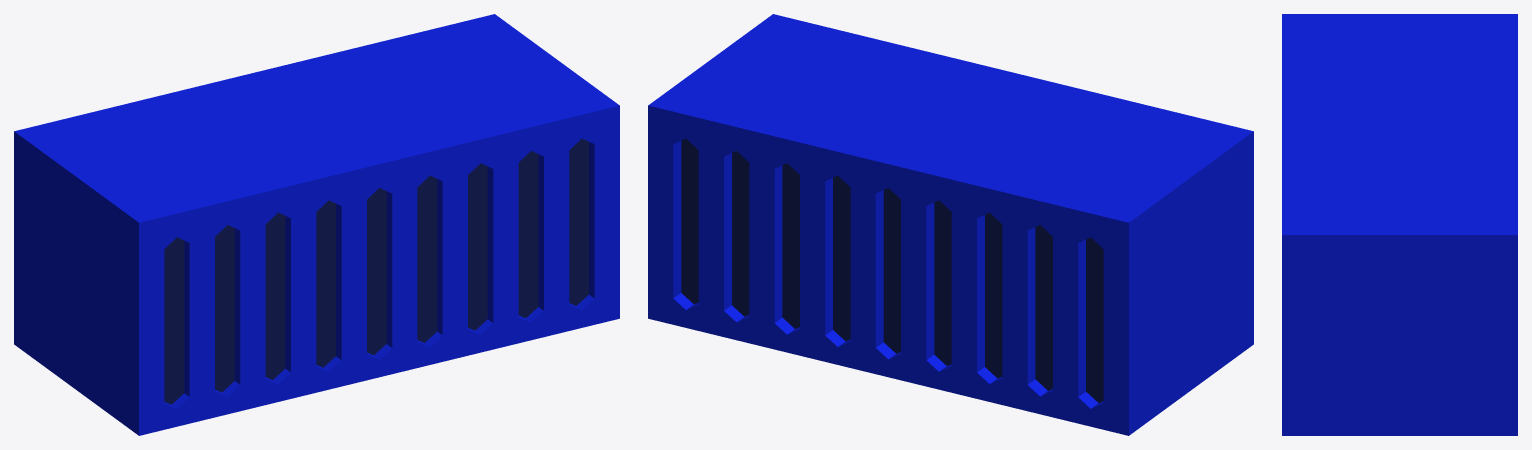
The model's file is container3.FBX.
3 renders of one model, left to right at view 1: azimuth 30°, elevation 25°; view 2: azimuth 150°, elevation 25°; view 3: azimuth 270°, elevation 25°, orthographic. The views are drawn at different scales.
Parts seen in each view (by area): view 1: Box001; view 2: Box001; view 3: Box001.
Boxes of the visible parts, x1=… form: Box001: x1=14, y1=14, x2=619, y2=435; Box001: x1=648, y1=14, x2=1253, y2=435; Box001: x1=1282, y1=14, x2=1517, y2=435.
Size of the model in its own units: 114 by 48.16 by 51.2.
